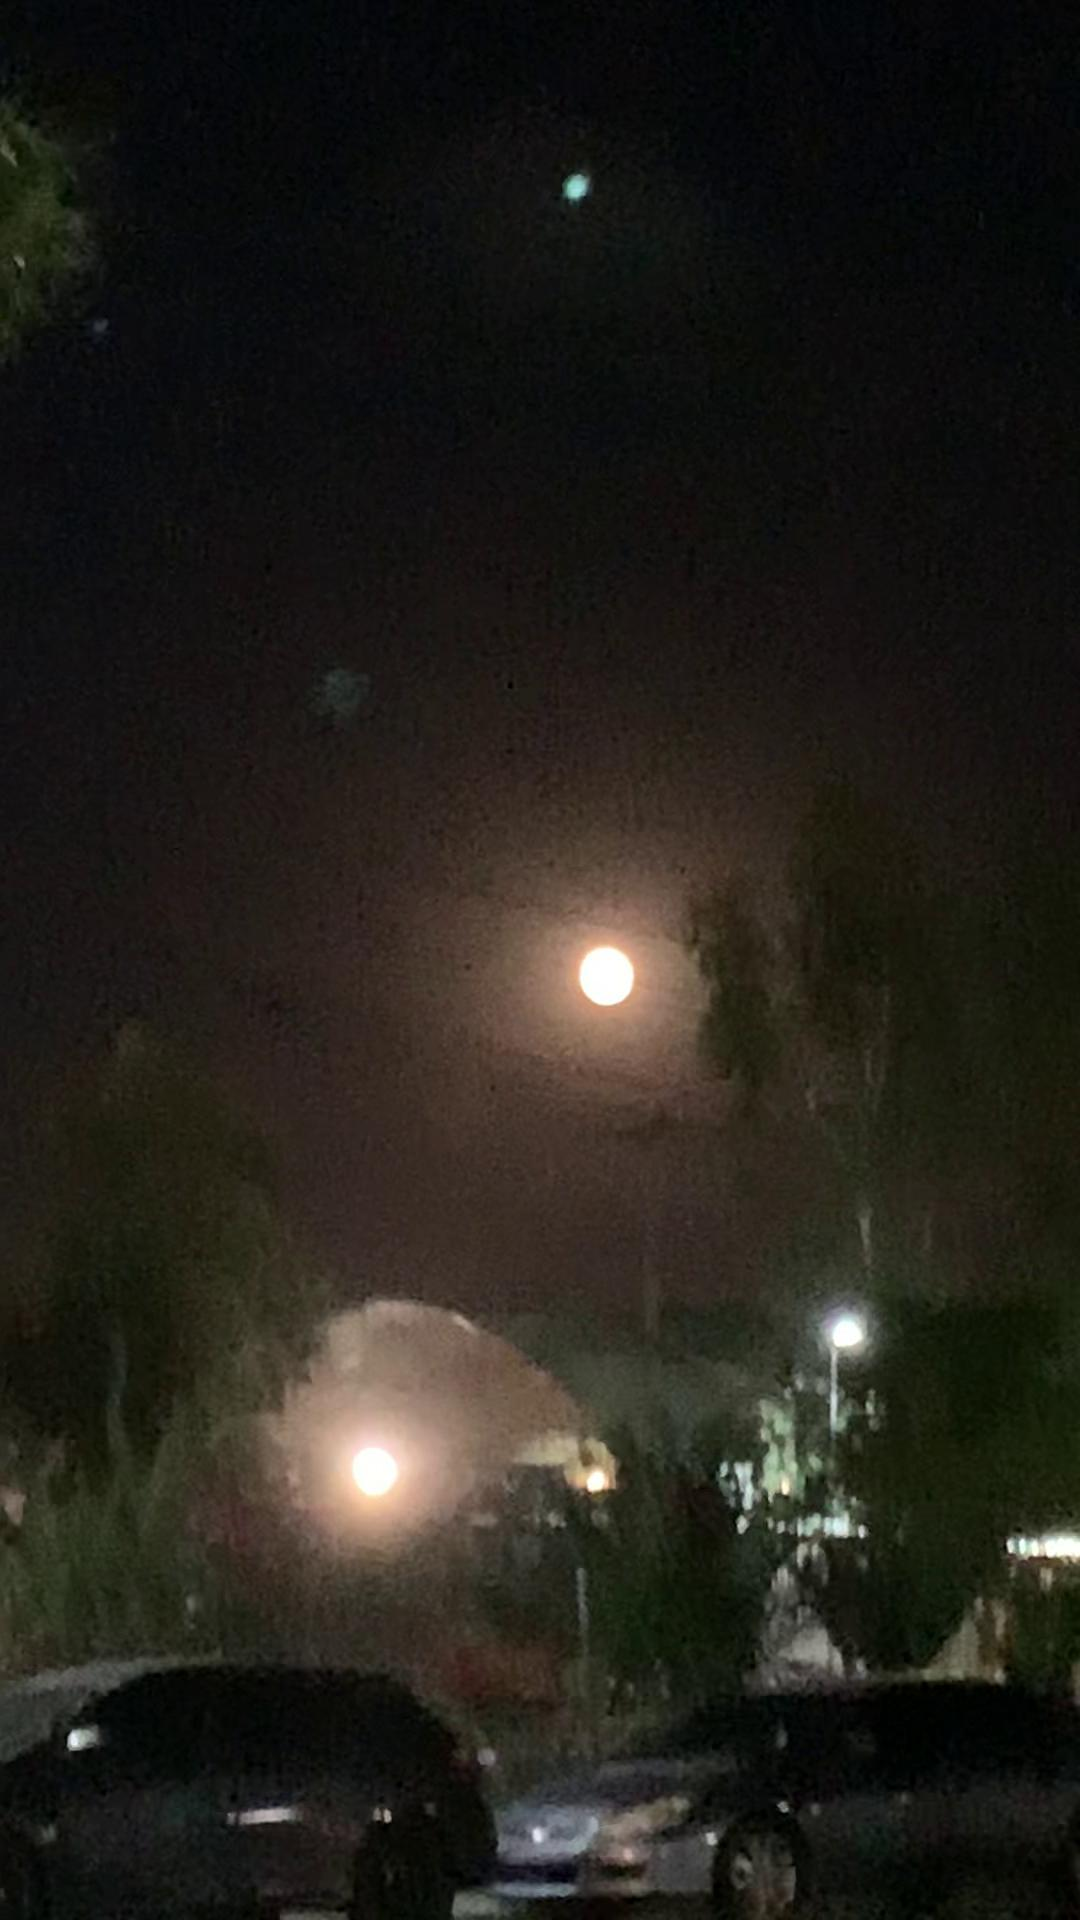moon: (576, 950, 647, 1023)
